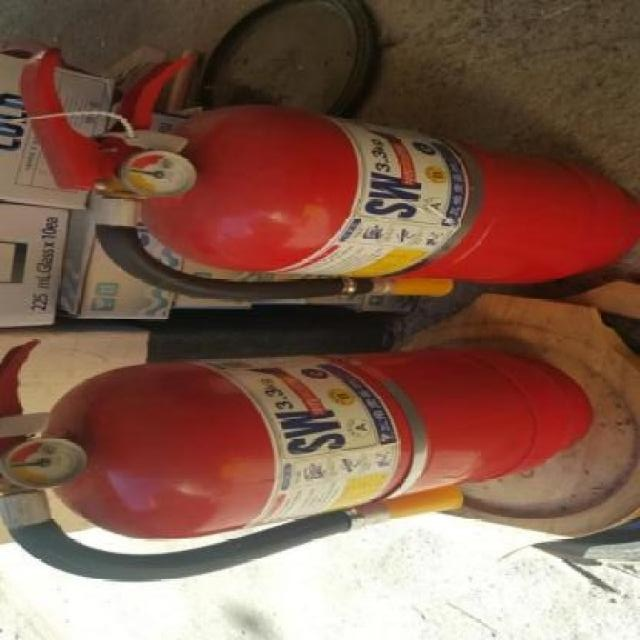fire extinguisher: (17, 46, 640, 302), (0, 340, 592, 583)
